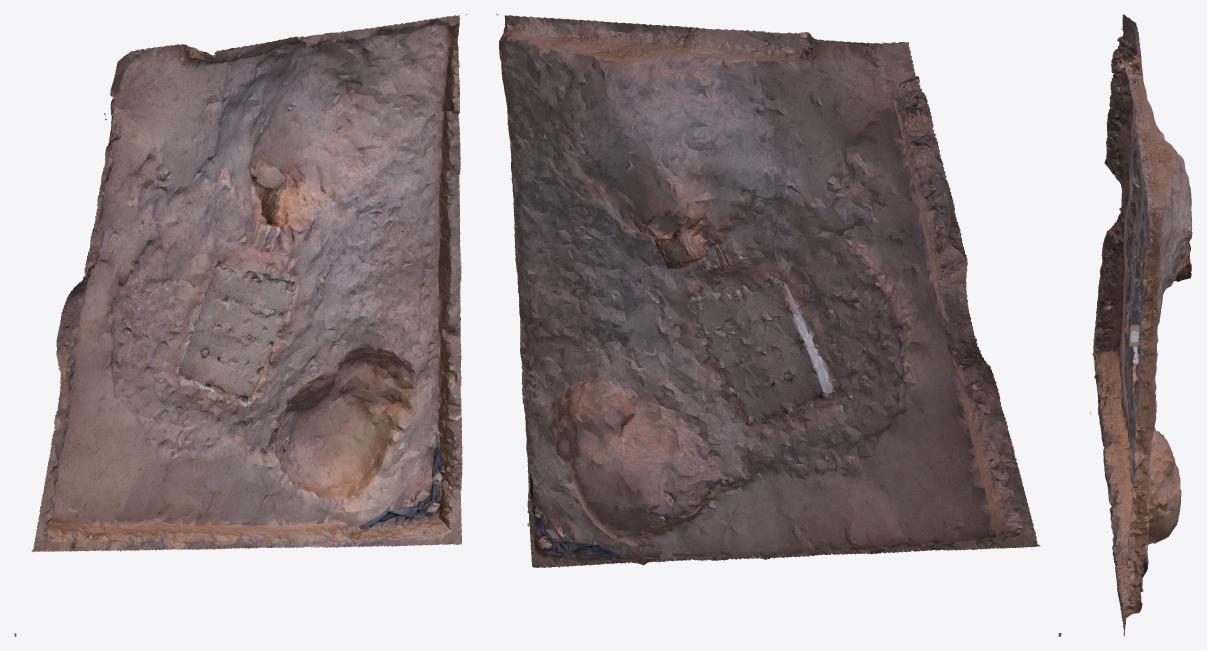
The model's file is DigsiteV2.fbx.
The picture shows the model from 3 angles, left to right: view 1: azimuth 30°, elevation 25°; view 2: azimuth 150°, elevation 25°; view 3: azimuth 270°, elevation 25°; orthographic projection. The views are drawn at different scales.
Parts seen in each view (by area): view 1: ldgp_MOR2020_modelo3D_S3100_20200916-LOW-OBJ; view 2: ldgp_MOR2020_modelo3D_S3100_20200916-LOW-OBJ; view 3: ldgp_MOR2020_modelo3D_S3100_20200916-LOW-OBJ.
Part boxes in pixels (x1,y1,x2,y2): ldgp_MOR2020_modelo3D_S3100_20200916-LOW-OBJ: [14, 14, 467, 636]; ldgp_MOR2020_modelo3D_S3100_20200916-LOW-OBJ: [496, 14, 1061, 636]; ldgp_MOR2020_modelo3D_S3100_20200916-LOW-OBJ: [1090, 14, 1192, 636].
Bounding box in the file's own units: 892 × 995 × 191.
